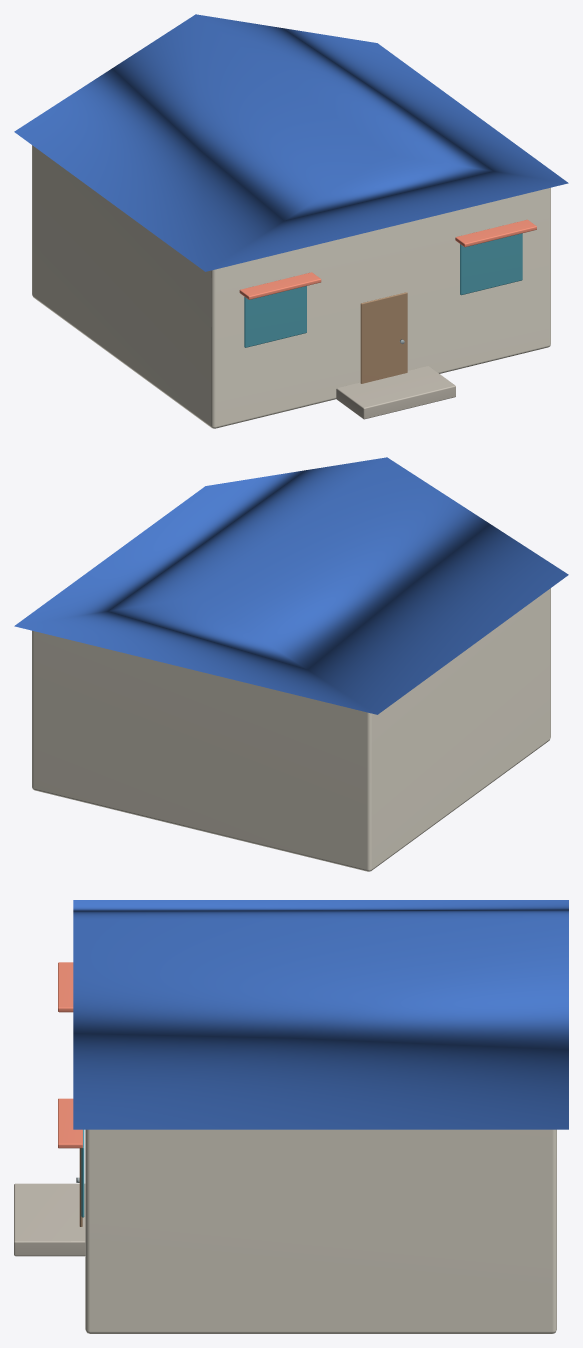
File: HL_Building_CoastalHouse.fbx
3 renders of one model, top to bottom at view 1: azimuth 30°, elevation 25°; view 2: azimuth 150°, elevation 25°; view 3: azimuth 270°, elevation 25°, orthographic. The views are drawn at different scales.
Visible parts, largest first — view 1: House | pitched cobalt roof, House | ivory stucco, House | front door, House | entry porch, House | front window, House | front window.001, House | window sunshade, House | window sunshade.001; view 2: House | pitched cobalt roof, House | ivory stucco; view 3: House | pitched cobalt roof, House | ivory stucco, House | entry porch, House | window sunshade.001, House | window sunshade.
Boxes of the visible parts, bbox=[...] form: House | pitched cobalt roof: bbox=[14, 14, 568, 271]; House | ivory stucco: bbox=[32, 145, 550, 428]; House | front door: bbox=[360, 292, 407, 383]; House | entry porch: bbox=[336, 366, 455, 419]; House | front window: bbox=[244, 286, 306, 347]; House | front window.001: bbox=[460, 233, 522, 295]; House | window sunshade: bbox=[239, 272, 321, 299]; House | window sunshade.001: bbox=[455, 219, 536, 247]; House | pitched cobalt roof: bbox=[14, 457, 568, 714]; House | ivory stucco: bbox=[32, 588, 550, 871]; House | pitched cobalt roof: bbox=[73, 900, 568, 1129]; House | ivory stucco: bbox=[85, 1129, 556, 1333]; House | entry porch: bbox=[14, 1183, 85, 1256]; House | window sunshade.001: bbox=[58, 1098, 82, 1148]; House | window sunshade: bbox=[58, 962, 73, 1012].
Bounding box in the file's own units: 910 × 570 × 929.
